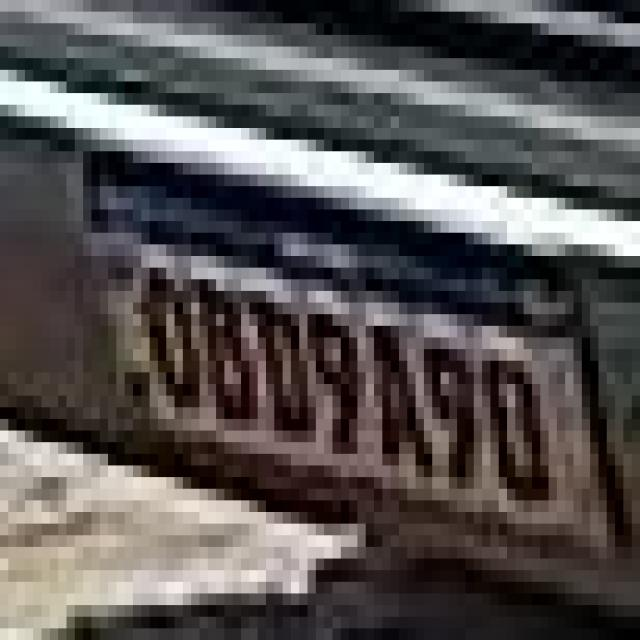0: (482, 351, 546, 508)
9: (428, 338, 481, 494), (142, 266, 195, 419), (313, 296, 362, 460)
A: (367, 313, 422, 486)
B: (212, 276, 255, 438), (262, 296, 305, 454)
